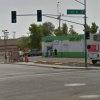Traffic light: (5, 3, 50, 31)
